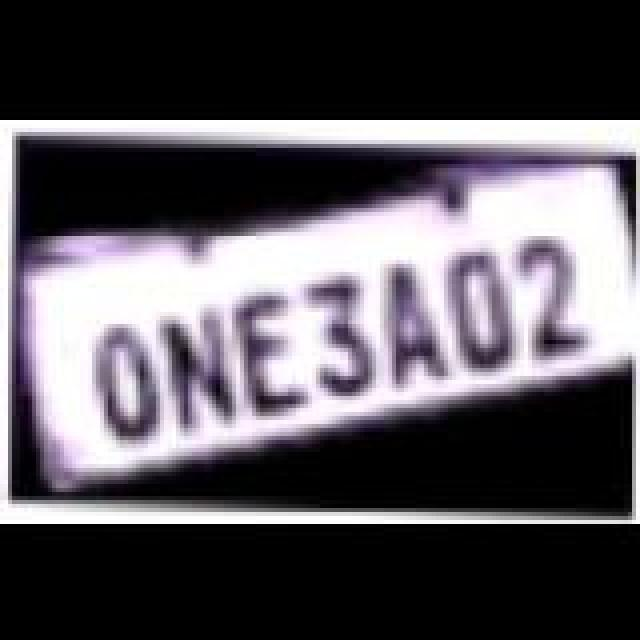2: (502, 230, 602, 354)
3: (292, 272, 388, 400)
A: (368, 258, 456, 390)
D: (434, 244, 526, 372)
E: (226, 288, 318, 416)
N: (154, 304, 246, 432)
O: (86, 318, 170, 442)
